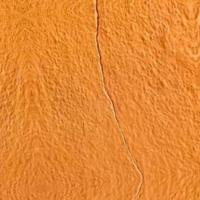crack: (81, 1, 137, 122)
